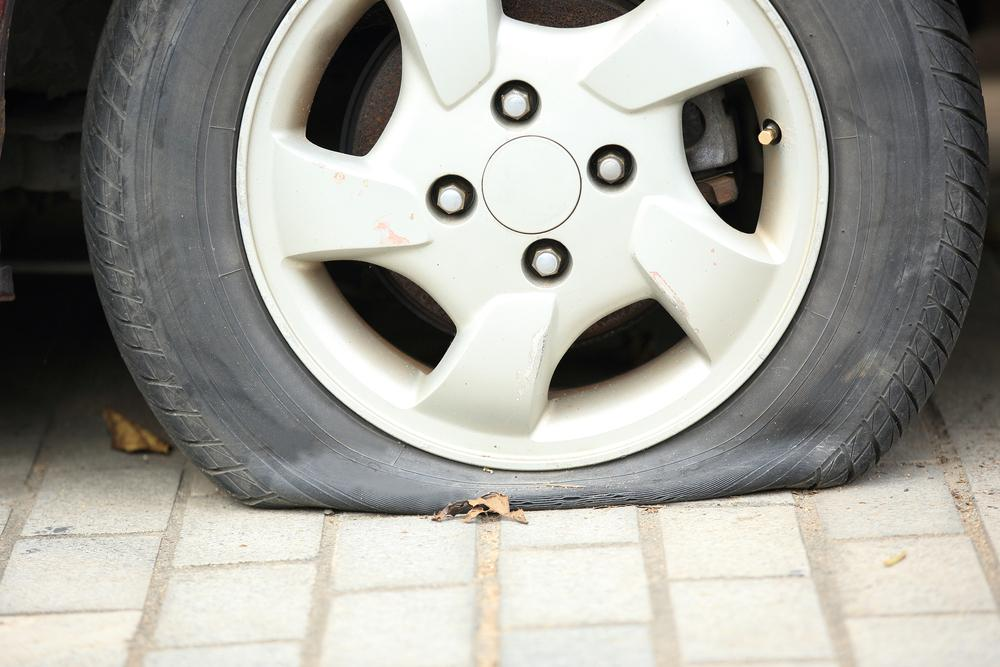tire flat: (82, 0, 987, 515)
